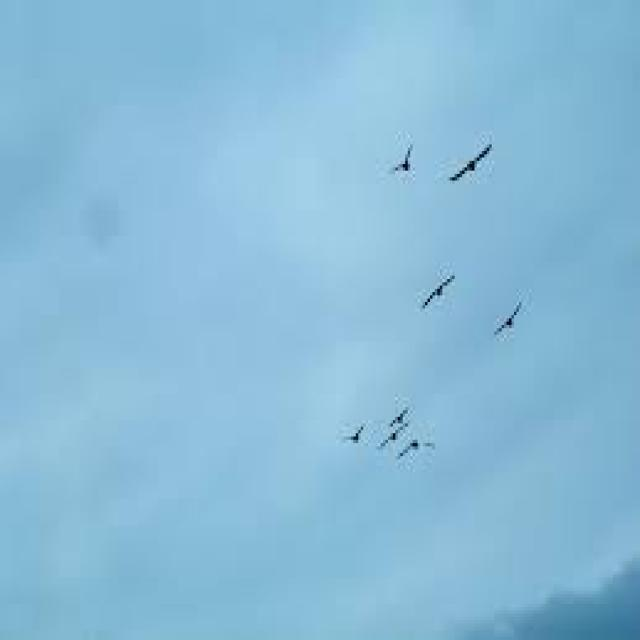bird: (435, 106, 502, 196), (404, 258, 464, 314), (492, 280, 534, 346), (398, 430, 458, 473), (376, 144, 426, 184), (377, 418, 419, 462), (378, 378, 415, 427), (326, 410, 363, 450)
